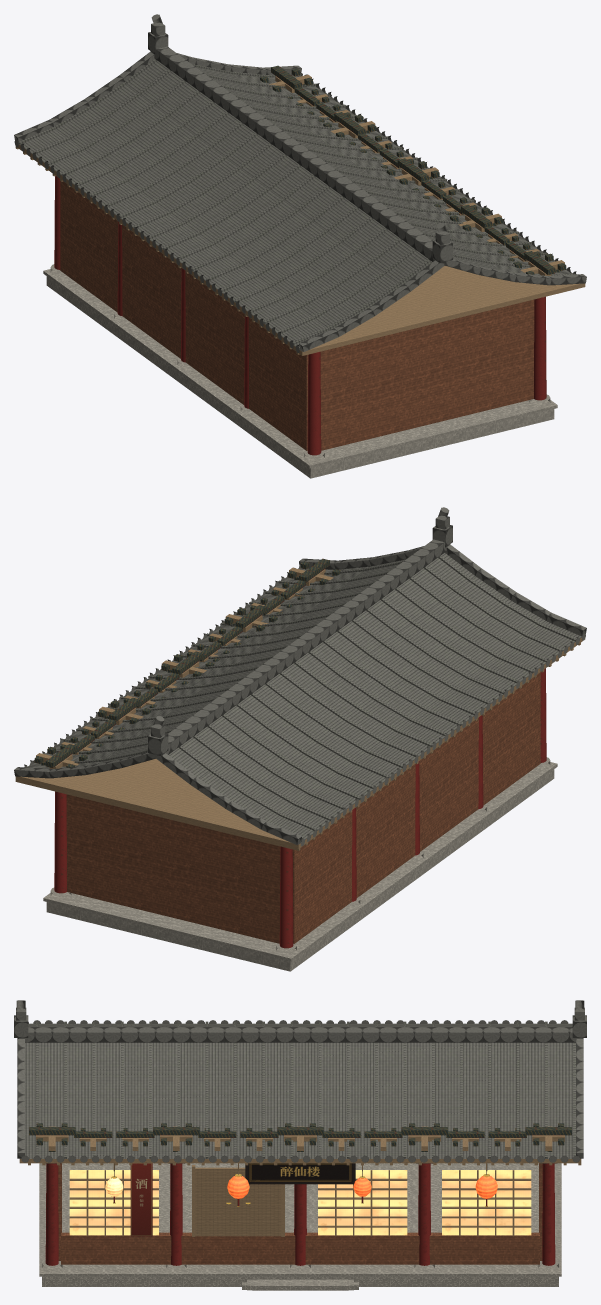
File: shop_3bay.gltf
3 views of the same model, one above another, from view 1: azimuth 30°, elevation 25°; view 2: azimuth 150°, elevation 25°; view 3: azimuth 270°, elevation 25° (orthographic).
Parts seen in each view (by area): view 1: wineshop_00; view 2: wineshop_00; view 3: wineshop_00.
Part boxes in pixels (bbox=[...]): wineshop_00: bbox=[14, 14, 586, 478]; wineshop_00: bbox=[14, 507, 586, 971]; wineshop_00: bbox=[14, 1000, 586, 1290].
Size of the model in its own units: 9.59 by 7.31 by 16.62.
15 materials, 15 textured.
